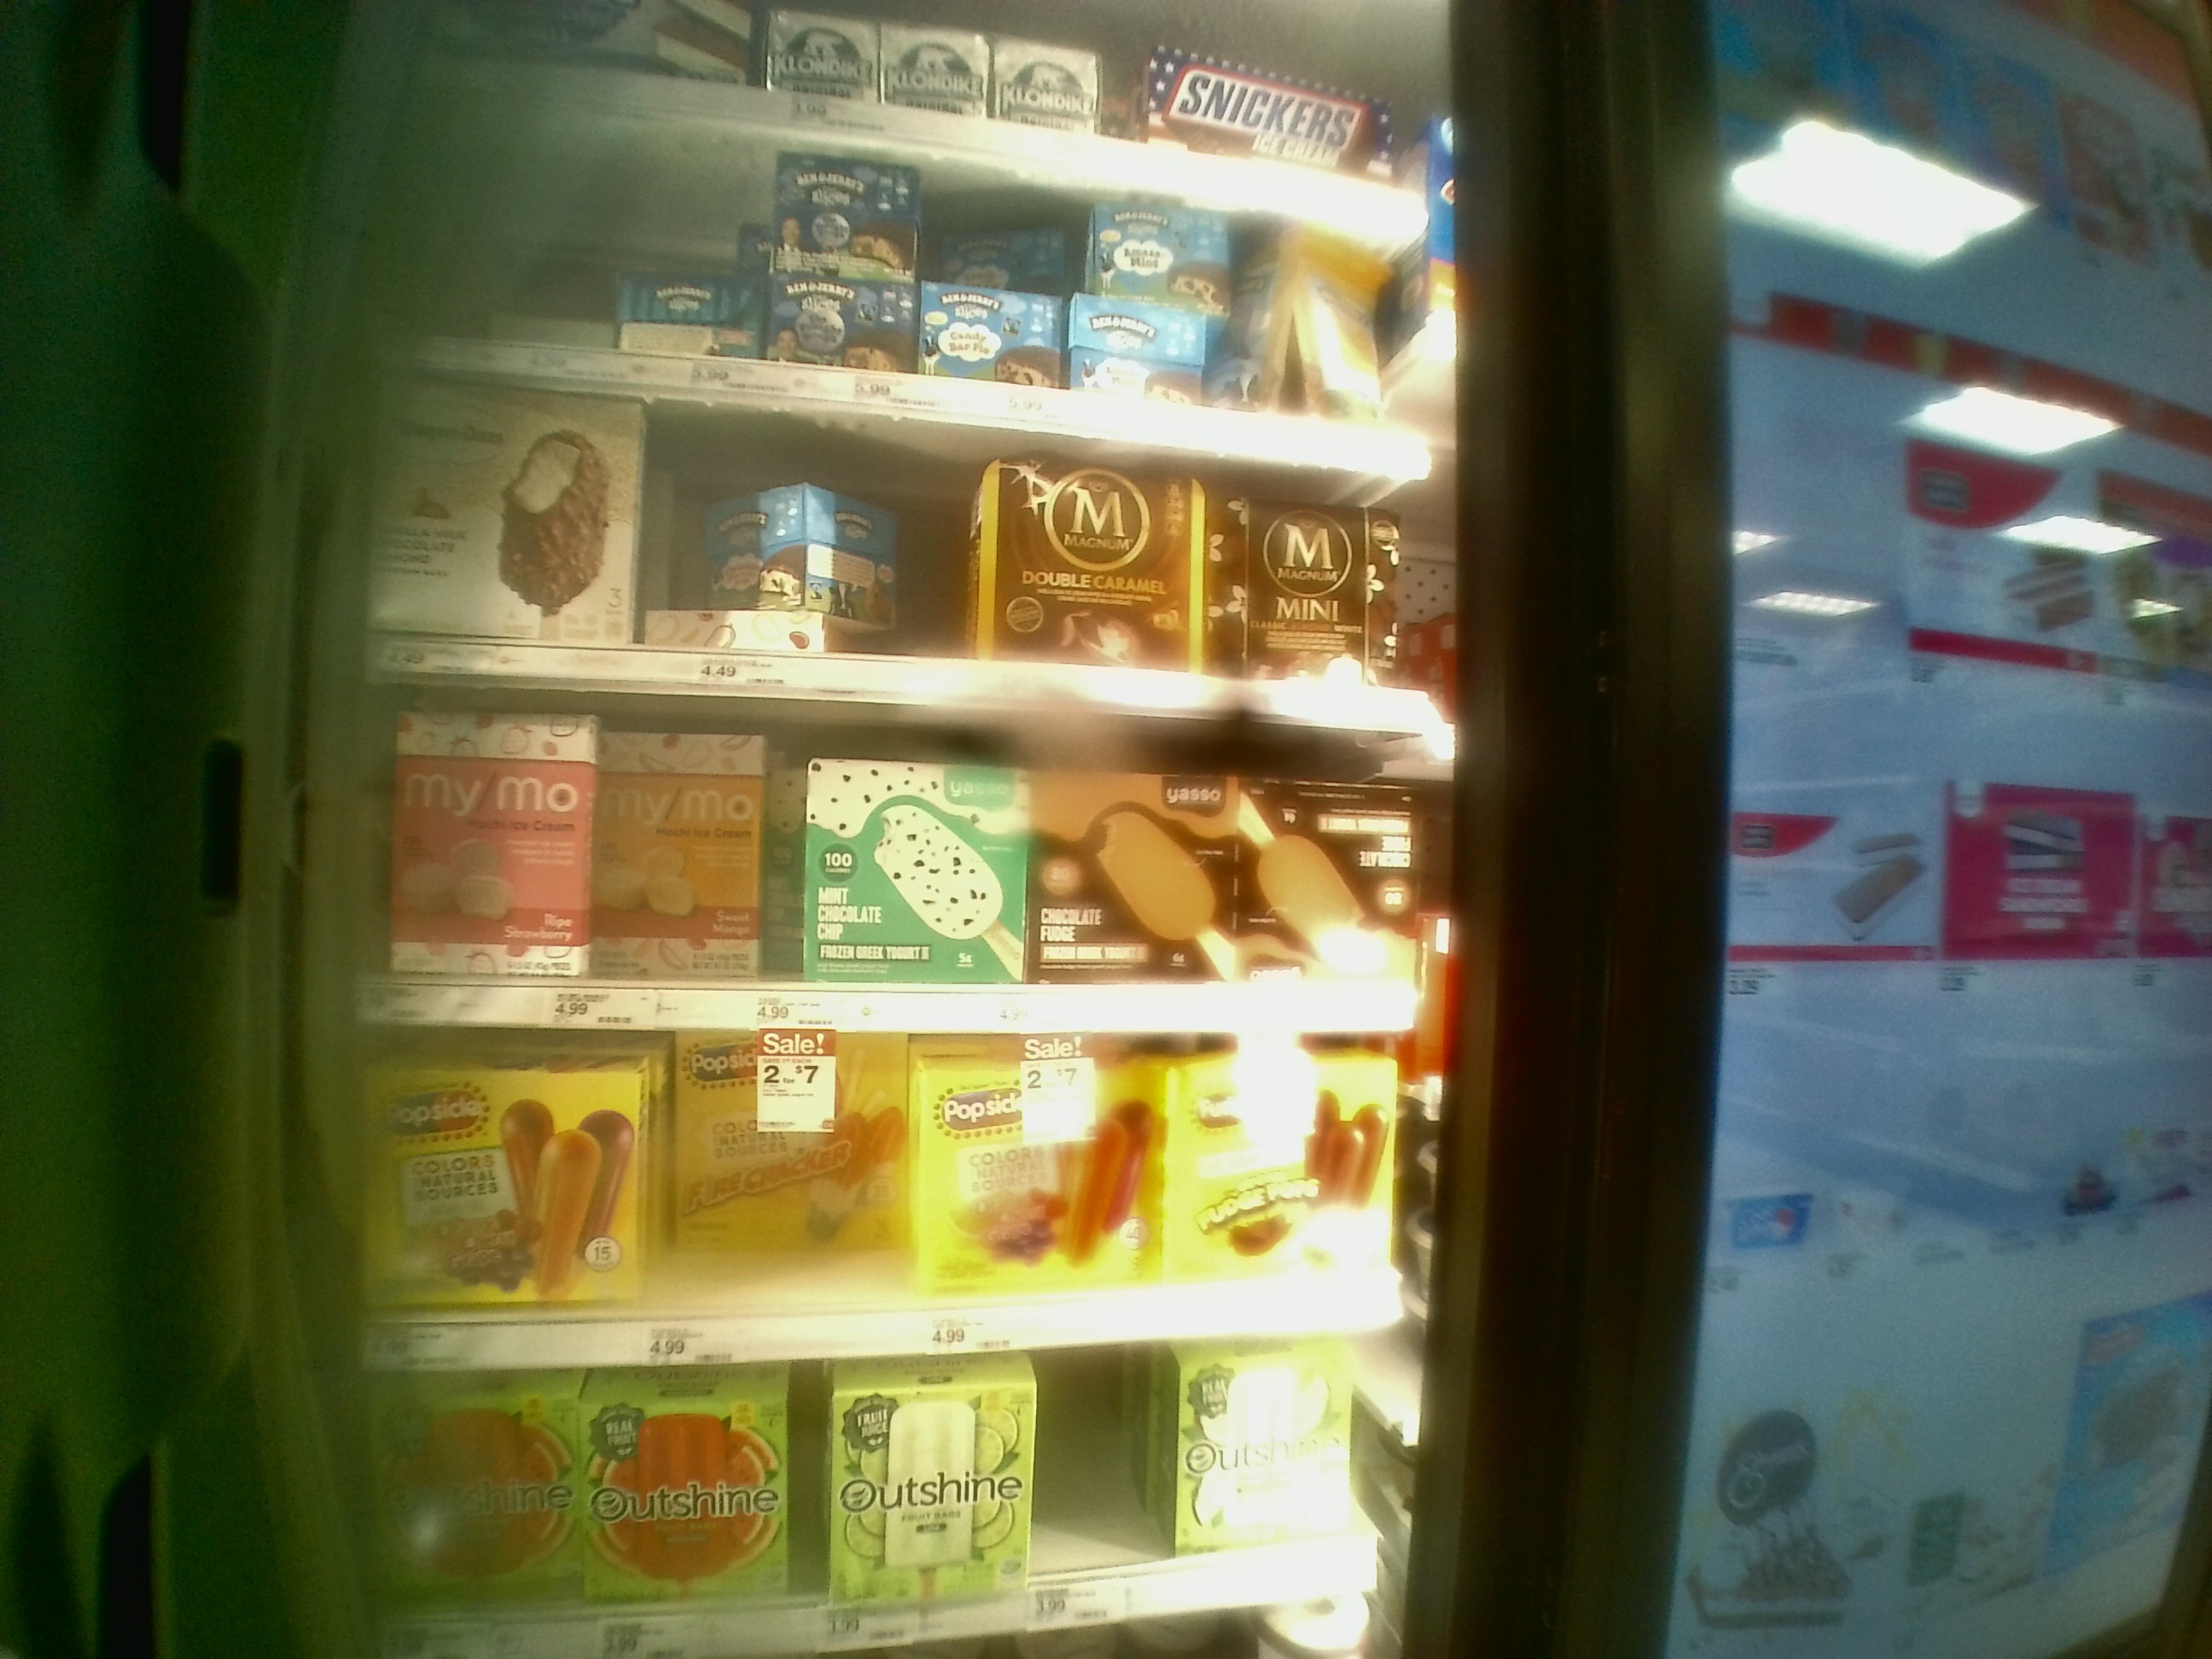ice-cream-shelf: (359, 673, 1439, 1025), (359, 1023, 1439, 1368)
